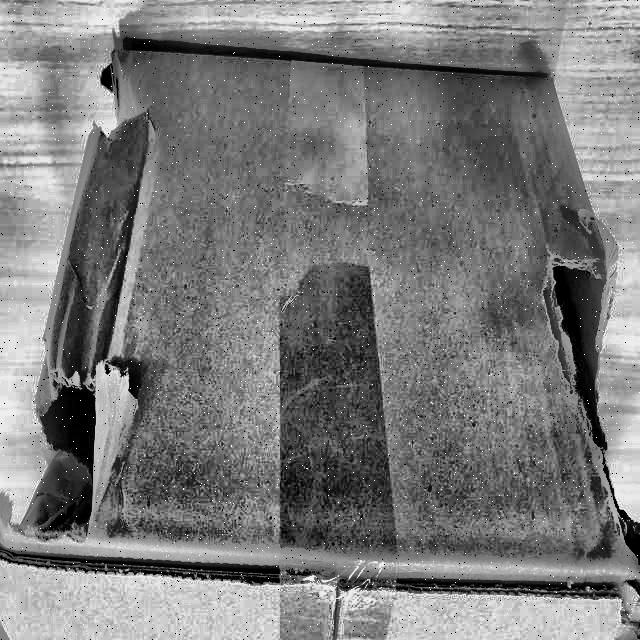box: (0, 33, 639, 640)
hole: (551, 259, 639, 592), (19, 365, 118, 569), (95, 47, 155, 171)
